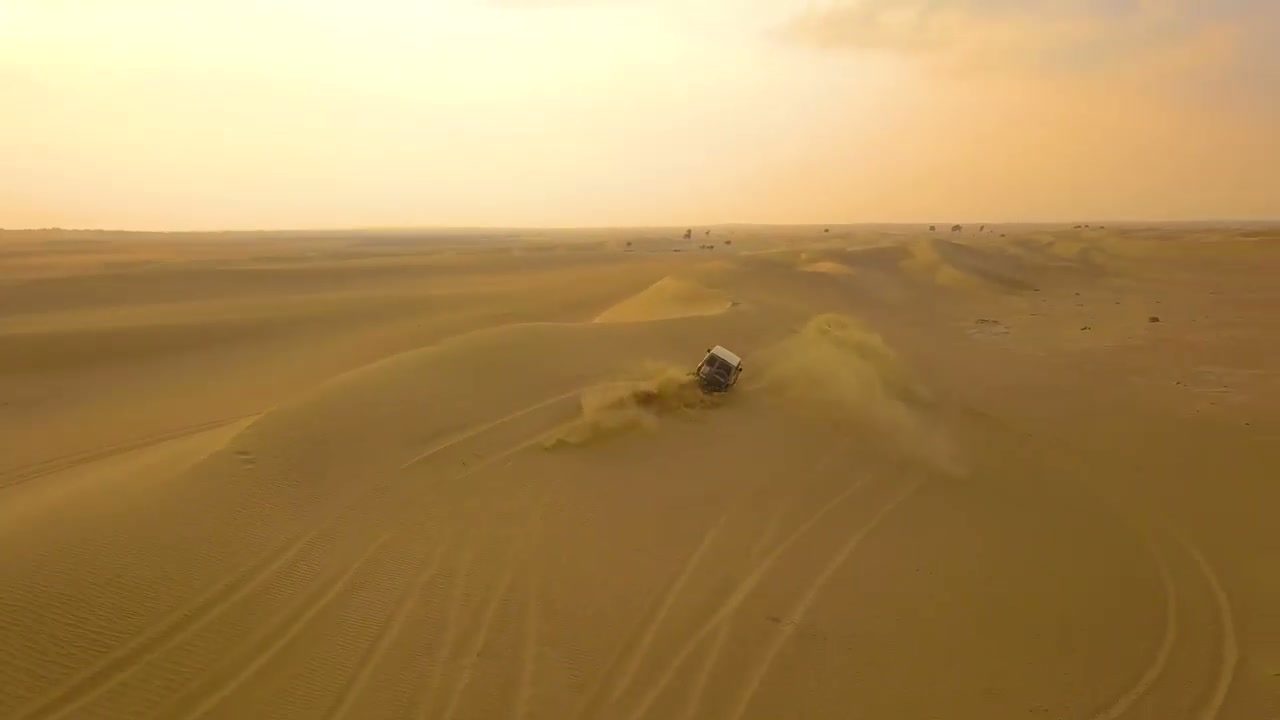vehicle_track: (12, 475, 402, 719), (13, 526, 322, 719), (627, 478, 866, 719), (728, 483, 919, 719), (153, 533, 390, 719), (325, 544, 445, 719), (0, 413, 259, 490), (1092, 533, 1178, 719)
